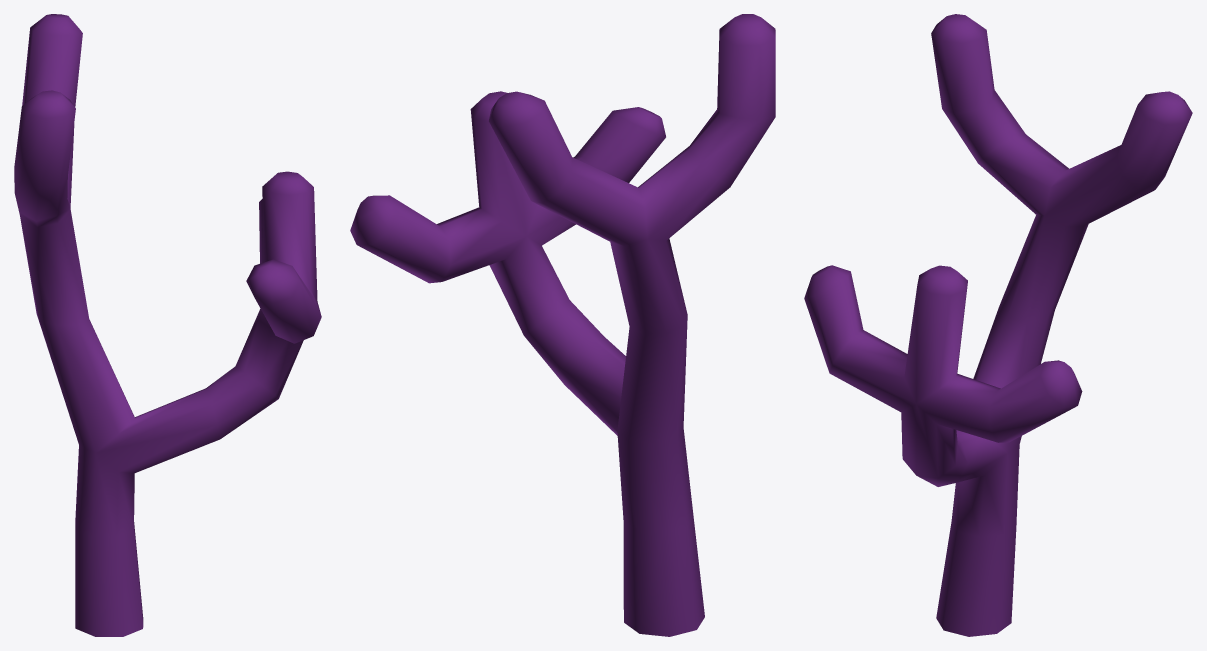
Rendered from Sea_plant_1_2.001.fbx.
3 renders of one model, left to right at view 1: azimuth 30°, elevation 25°; view 2: azimuth 150°, elevation 25°; view 3: azimuth 270°, elevation 25°, orthographic. The views are drawn at different scales.
Visible parts, largest first — view 1: Sea_plant_1_2.001; view 2: Sea_plant_1_2.001; view 3: Sea_plant_1_2.001.
Boxes of the visible parts, <box> form: Sea_plant_1_2.001: <box>14,14,321,636</box>; Sea_plant_1_2.001: <box>350,14,775,636</box>; Sea_plant_1_2.001: <box>804,14,1192,636</box>.
Bounding box in the file's own units: 0.6088 × 0.9592 × 0.5948.
